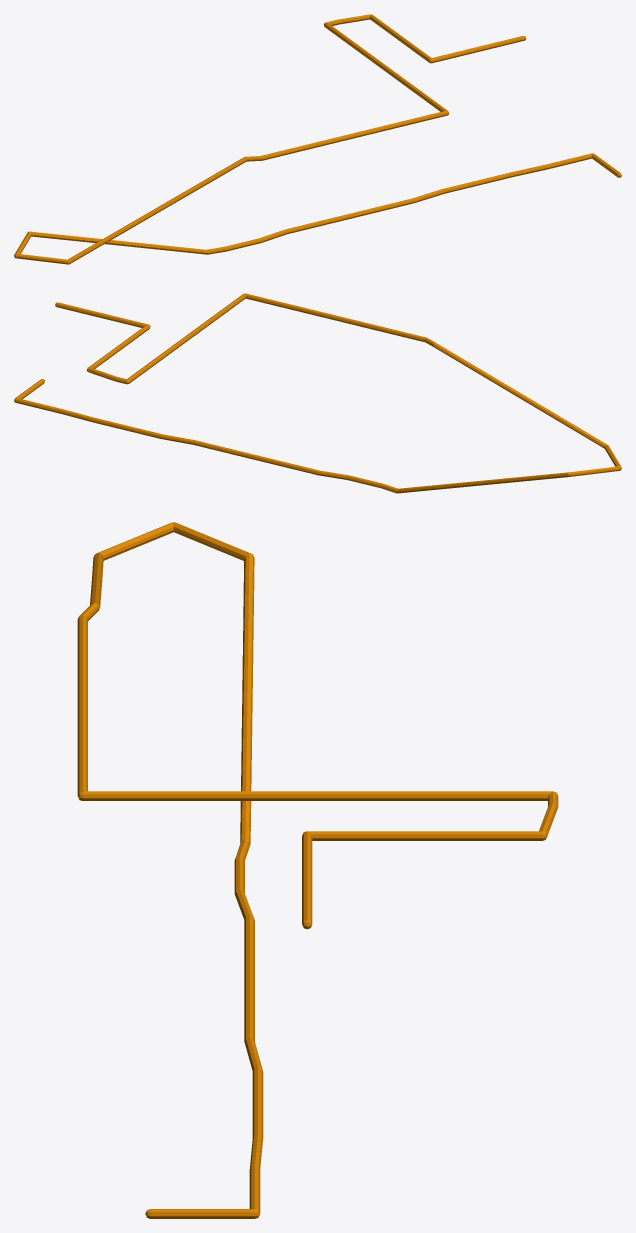
3 views of the same model, one above another, from view 1: azimuth 30°, elevation 25°; view 2: azimuth 150°, elevation 25°; view 3: azimuth 270°, elevation 25° (orthographic). The views are drawn at different scales.
Bounding box in the file's own units: 2595 × 520 × 920.
